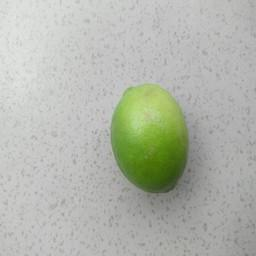Good_lime: (108, 79, 196, 195)
